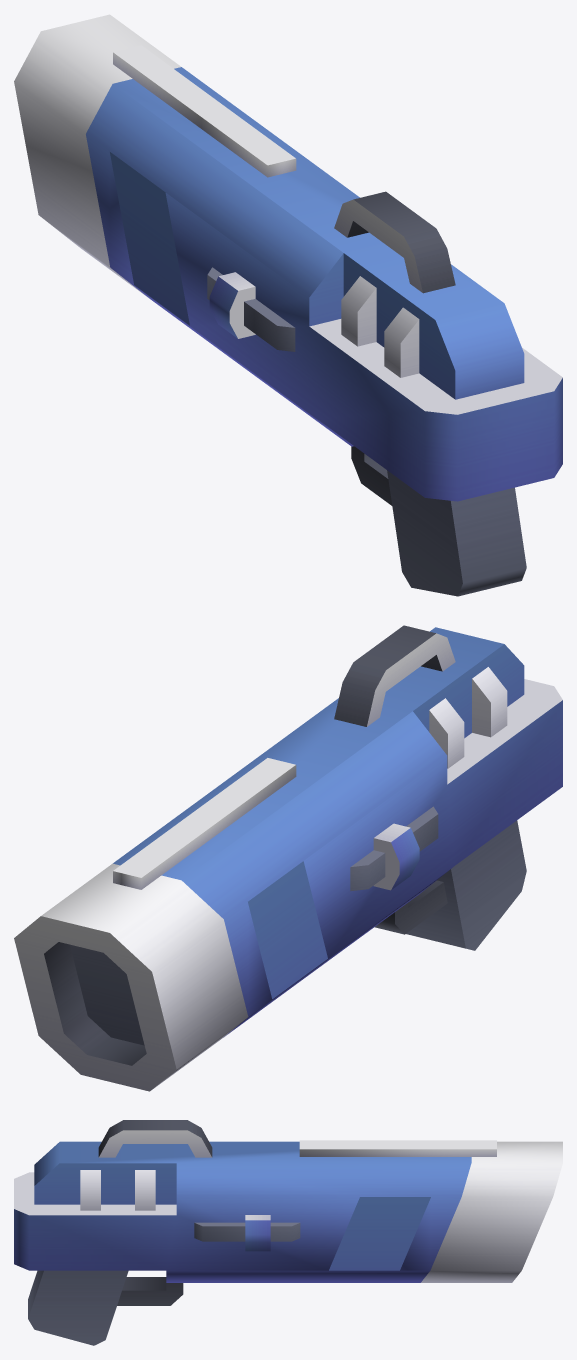
Rendered from blaster-h.glb.
3 renders of one model, top to bottom at view 1: azimuth 30°, elevation 25°; view 2: azimuth 150°, elevation 25°; view 3: azimuth 270°, elevation 25°, orthographic. The views are drawn at different scales.
Parts seen in each view (by area): view 1: blaster-h; view 2: blaster-h; view 3: blaster-h.
Boxes of the visible parts, x1,y1,x2,y2 form: blaster-h: (14, 14, 562, 596); blaster-h: (14, 625, 562, 1091); blaster-h: (14, 1120, 562, 1345).
Size of the model in its own units: 0.165 by 0.2745 by 0.648.
Materials: 1 (1 with a texture image).
